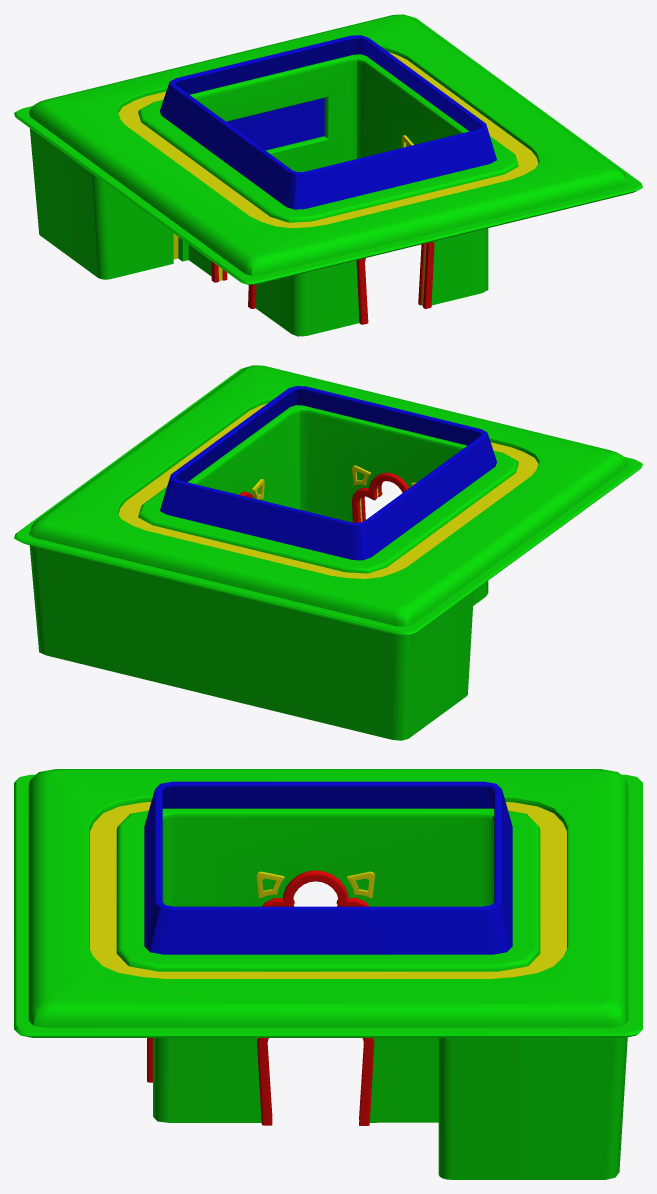
The model's file is SM_Building006.fbx.
3 renders of one model, top to bottom at view 1: azimuth 30°, elevation 25°; view 2: azimuth 150°, elevation 25°; view 3: azimuth 270°, elevation 25°, orthographic. The views are drawn at different scales.
Visible parts, largest first — view 1: polySurface2344; view 2: polySurface2344; view 3: polySurface2344.
Boxes of the visible parts, <box> form: polySurface2344: <box>14,14,642,336</box>; polySurface2344: <box>14,365,642,740</box>; polySurface2344: <box>14,769,642,1179</box>.
Bounding box in the file's own units: 2262 × 873 × 2311.
